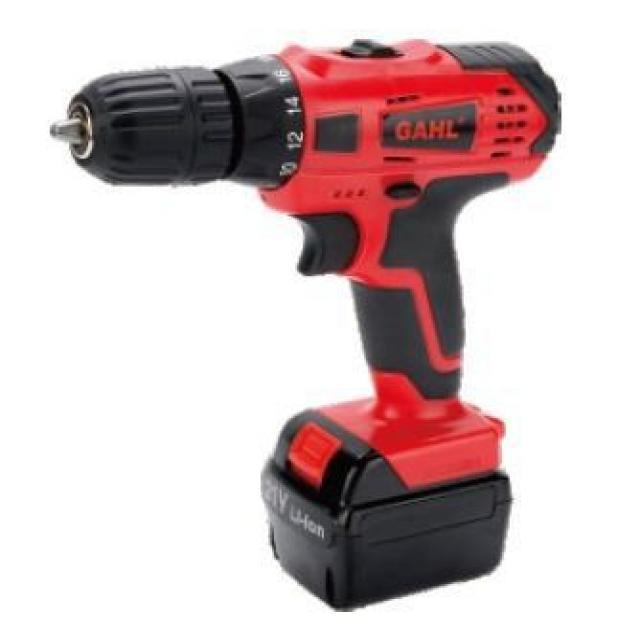drill: (50, 38, 562, 613)
